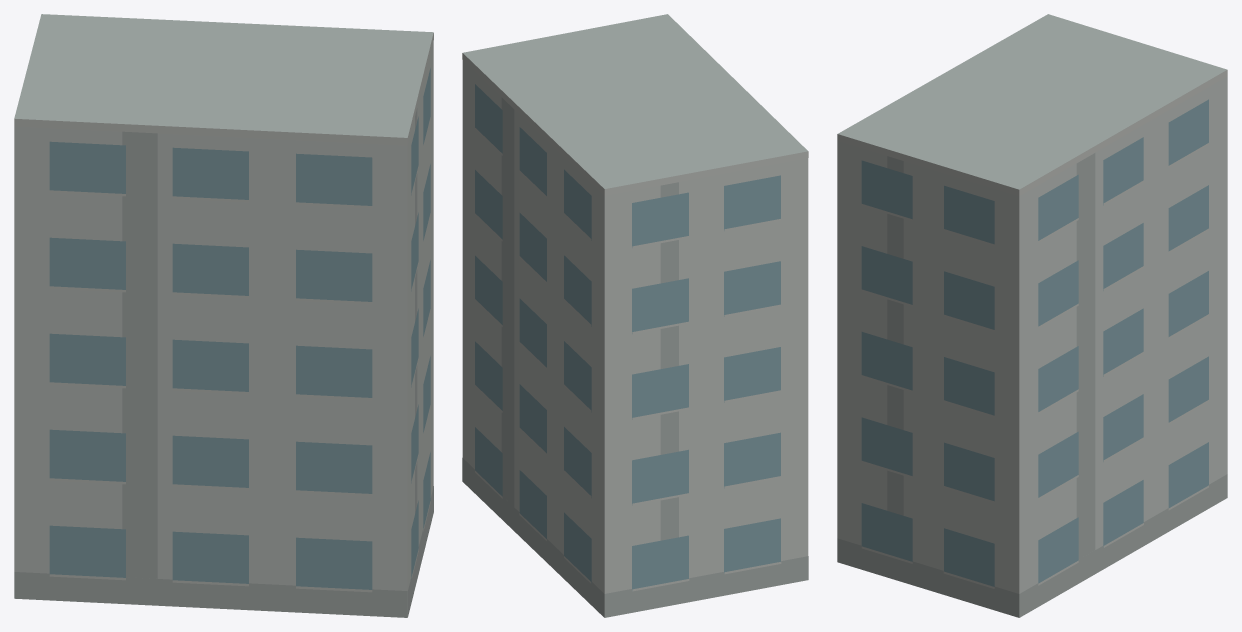
File: survey-upis-32592484.glb
3 renders of one model, left to right at view 1: azimuth 30°, elevation 25°; view 2: azimuth 150°, elevation 25°; view 3: azimuth 270°, elevation 25°, orthographic. The views are drawn at different scales.
Parts seen in each view (by area): view 1: survey-upis-32592484.tmp; view 2: survey-upis-32592484.tmp; view 3: survey-upis-32592484.tmp.
Boxes of the visible parts, left/top/right/bottom form: survey-upis-32592484.tmp: left=14, top=14, right=433, bottom=617; survey-upis-32592484.tmp: left=462, top=14, right=808, bottom=617; survey-upis-32592484.tmp: left=837, top=14, right=1227, bottom=617.
Size of the model in its own units: 13.42 by 15.25 by 12.6.
